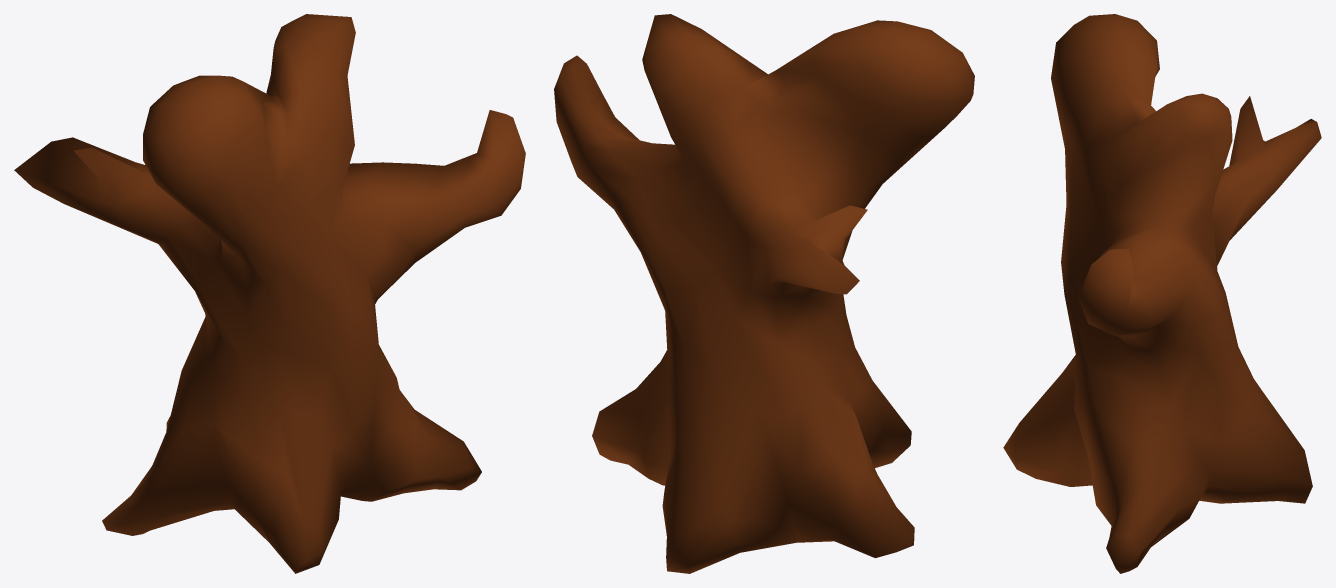
The model's file is Hight poly Trunk.fbx.
3 renders of one model, left to right at view 1: azimuth 30°, elevation 25°; view 2: azimuth 150°, elevation 25°; view 3: azimuth 270°, elevation 25°, orthographic. The views are drawn at different scales.
Parts seen in each view (by area): view 1: High_trunk; view 2: High_trunk; view 3: High_trunk.
Boxes of the visible parts, x1,y1,x2,y2 form: High_trunk: (14, 14, 525, 573); High_trunk: (554, 14, 974, 573); High_trunk: (1003, 14, 1321, 573).
Size of the model in its own units: 5.63 by 6.46 by 4.26.
